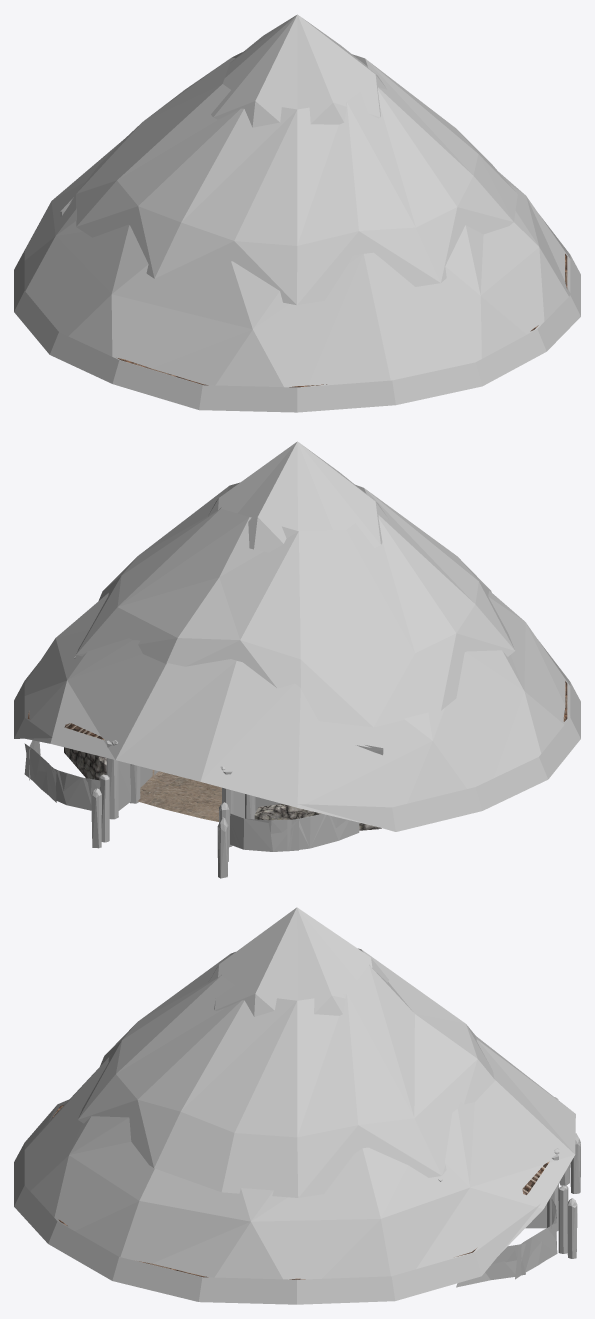
File: RoundHut_2_LOD3.fbx
The picture shows the model from 3 angles, top to bottom: view 1: azimuth 30°, elevation 25°; view 2: azimuth 150°, elevation 25°; view 3: azimuth 270°, elevation 25°; orthographic projection.
Parts seen in each view (by area): view 1: Alpha; view 2: Alpha, Wood, Ground, Stone; view 3: Alpha, Wood.
Boxes of the visible parts, left/top/right/bottom form: Alpha: left=14, top=14, right=580, bottom=412; Alpha: left=14, top=441, right=580, bottom=851; Wood: left=74, top=656, right=383, bottom=878; Ground: left=137, top=770, right=221, bottom=821; Stone: left=64, top=747, right=381, bottom=830; Alpha: left=14, top=907, right=575, bottom=1304; Wood: left=438, top=1097, right=580, bottom=1258.
Bounding box in the file's own units: 2419 × 2386 × 1483.
